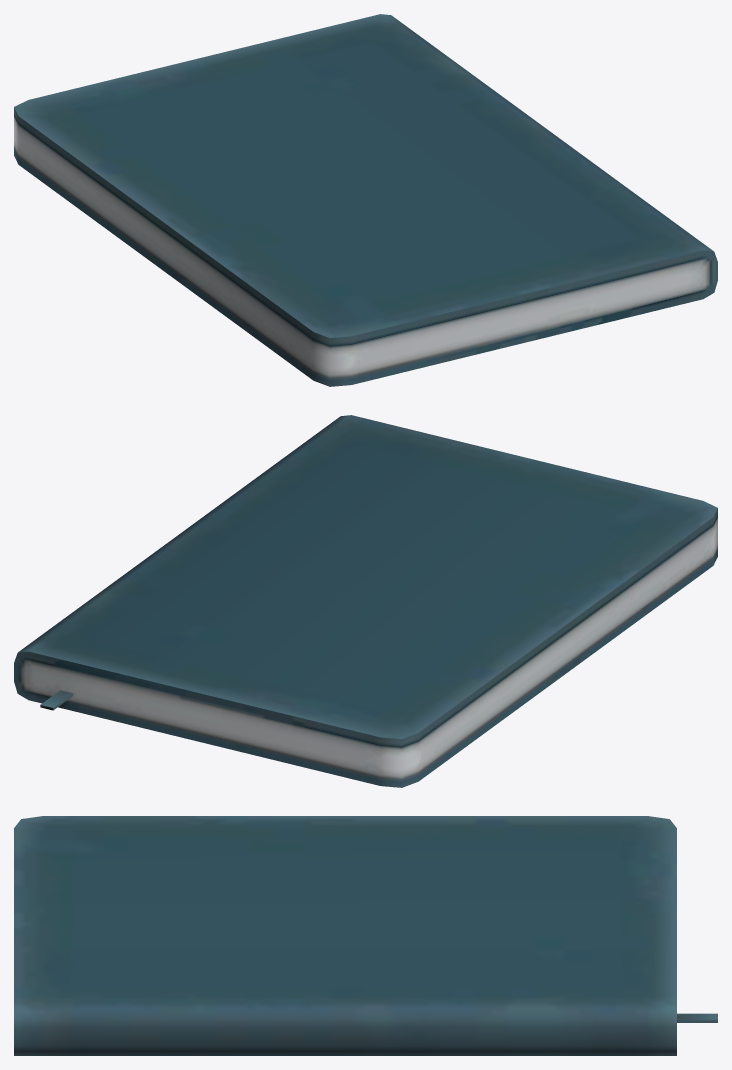
Rendered from OfficeDeskSet02.fbx.
3 renders of one model, top to bottom at view 1: azimuth 30°, elevation 25°; view 2: azimuth 150°, elevation 25°; view 3: azimuth 270°, elevation 25°, orthographic. The views are drawn at different scales.
Visible parts, largest first — view 1: OfficeDeskSet02; view 2: OfficeDeskSet02; view 3: OfficeDeskSet02.
Part boxes in pixels (<box>): OfficeDeskSet02: <box>14,14,717,386</box>; OfficeDeskSet02: <box>14,415,717,787</box>; OfficeDeskSet02: <box>14,816,717,1055</box>.
Size of the model in its own units: 0.1709 by 0.0204 by 0.26.
1 material, 1 textured.
